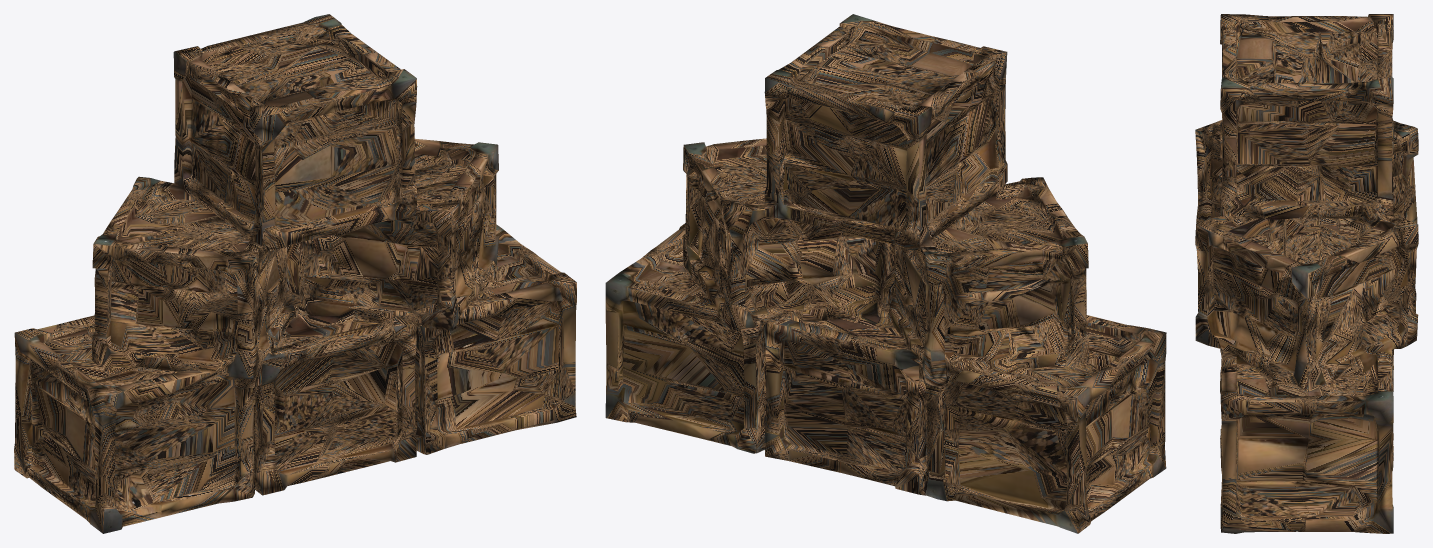
File: crate.glb
3 renders of one model, left to right at view 1: azimuth 30°, elevation 25°; view 2: azimuth 150°, elevation 25°; view 3: azimuth 270°, elevation 25°, orthographic. The views are drawn at different scales.
Bounding box in the file's own units: 2 × 1.53 × 0.8361.
1 material, 1 textured.
